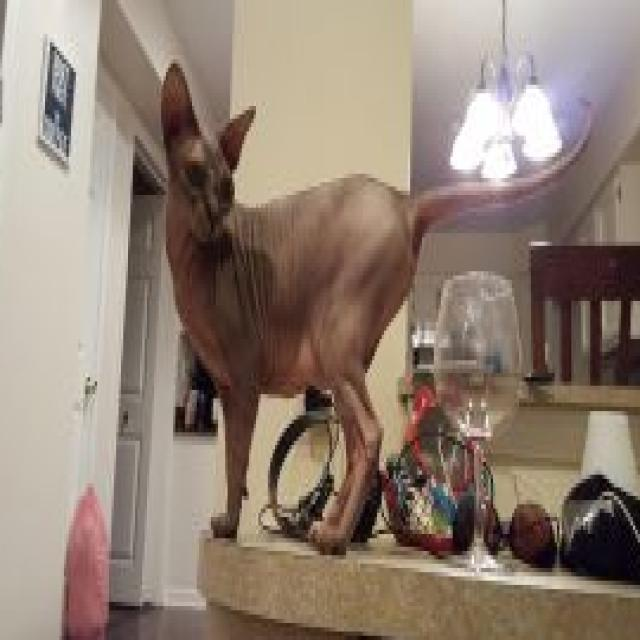Sphynx: (160, 58, 593, 557)
